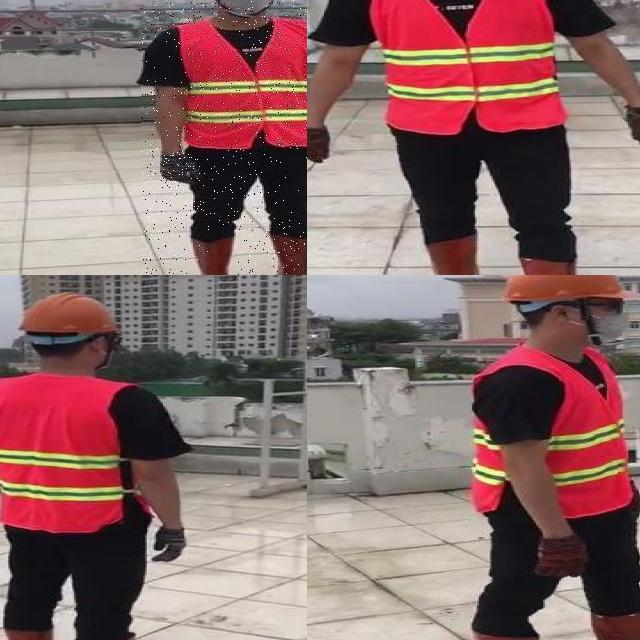boots: (411, 237, 482, 275), (187, 232, 235, 275), (267, 232, 307, 275)
face_mask: (575, 296, 637, 344)
glasses: (594, 296, 628, 315)
hand_glove: (534, 538, 589, 576), (152, 524, 190, 565), (307, 126, 331, 167), (624, 104, 640, 146), (635, 484, 640, 514)
head_helmet: (498, 275, 640, 305), (11, 292, 116, 332)
person: (307, 0, 640, 275), (0, 286, 200, 640), (450, 275, 640, 640), (141, 0, 307, 275)
vest: (359, 0, 564, 131), (470, 353, 632, 516), (0, 375, 147, 534), (173, 20, 307, 149)
